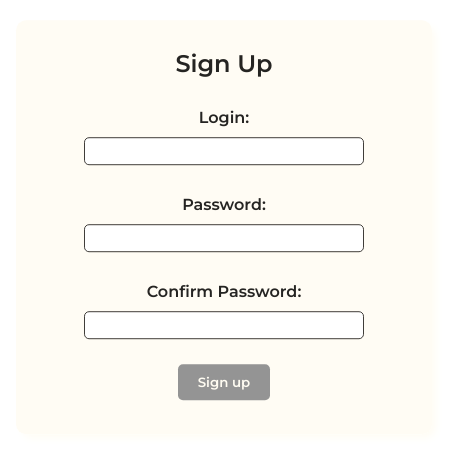
Test: Form validation › sign up form validation › form validation - enable the sign up button if the form is valid
Expected: the button is disabled, [178, 364, 270, 400]
Type "test@test.com" into the field labelled "Login:".
click(224, 151); type("test@test.com")  # box [84, 137, 364, 165]
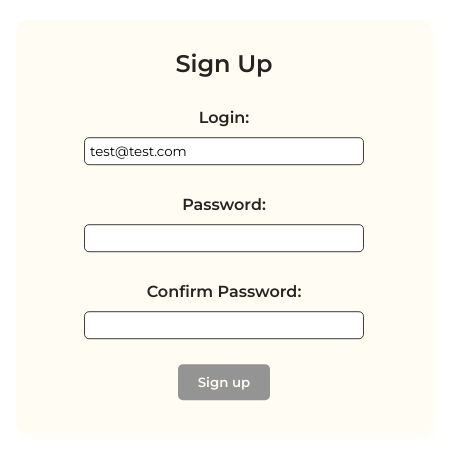
Type "12345678" into the password field labelled "Password:".
click(224, 238); type("12345678")  # box [84, 224, 364, 252]
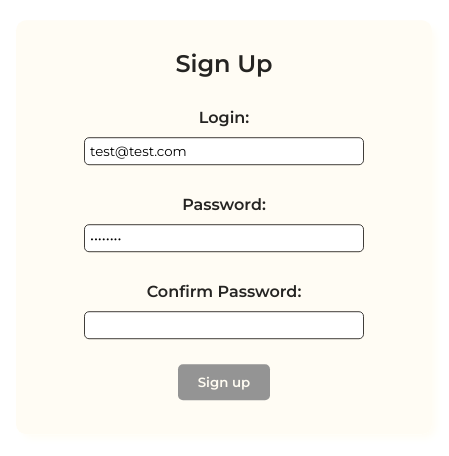
Type "12345678" into the password field labelled "Confirm Password:".
click(224, 325); type("12345678")  # box [84, 311, 364, 339]
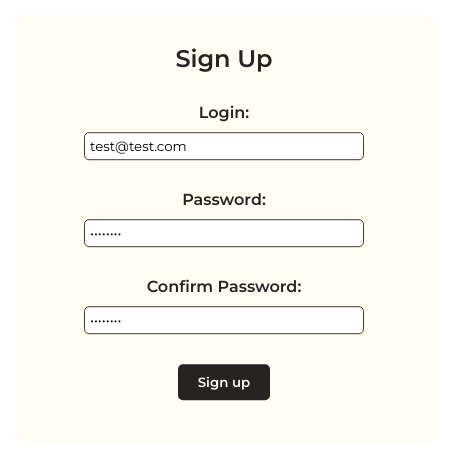
Expected: the button is enabled, [178, 364, 270, 400]
